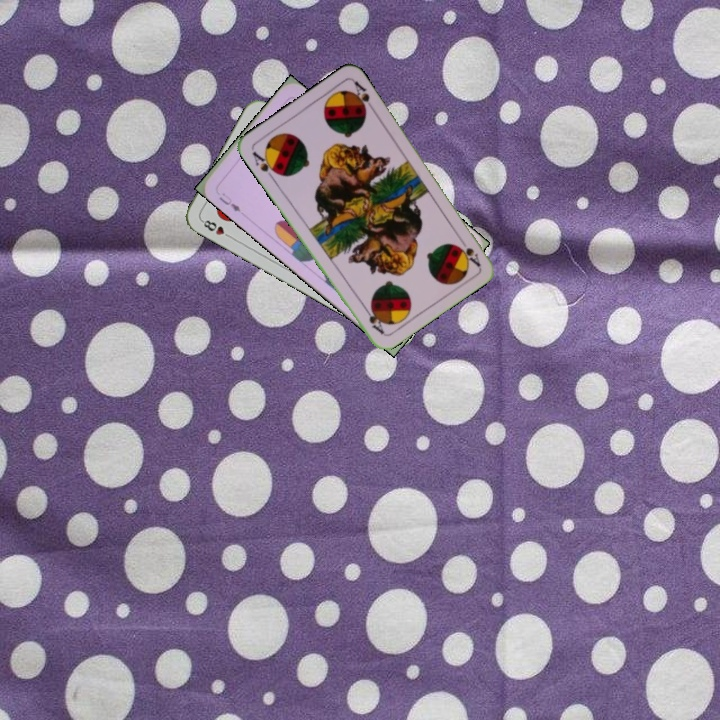EU: (215, 189, 243, 214)
H8: (197, 216, 235, 241)
SA: (248, 147, 281, 182), (455, 242, 483, 269)
